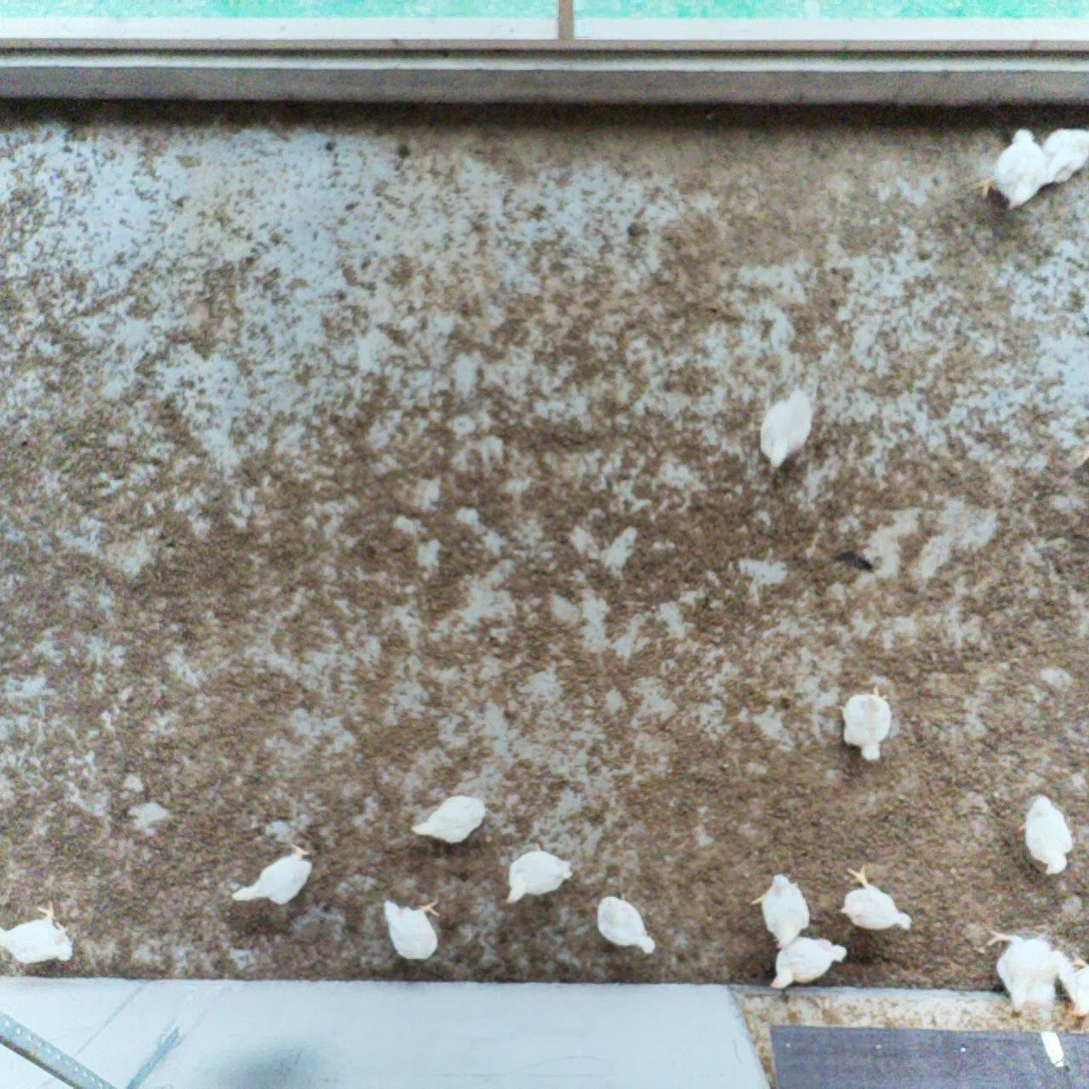chicken: (980, 925, 1055, 1020), (225, 840, 321, 908), (974, 122, 1047, 211), (830, 678, 898, 770), (742, 865, 814, 949), (838, 863, 917, 938), (754, 386, 817, 479), (0, 895, 77, 970), (1015, 791, 1081, 877), (500, 840, 576, 910), (765, 934, 850, 993), (379, 895, 447, 963), (409, 787, 488, 845), (592, 890, 656, 959), (1041, 122, 1089, 187), (1062, 946, 1089, 1017)
